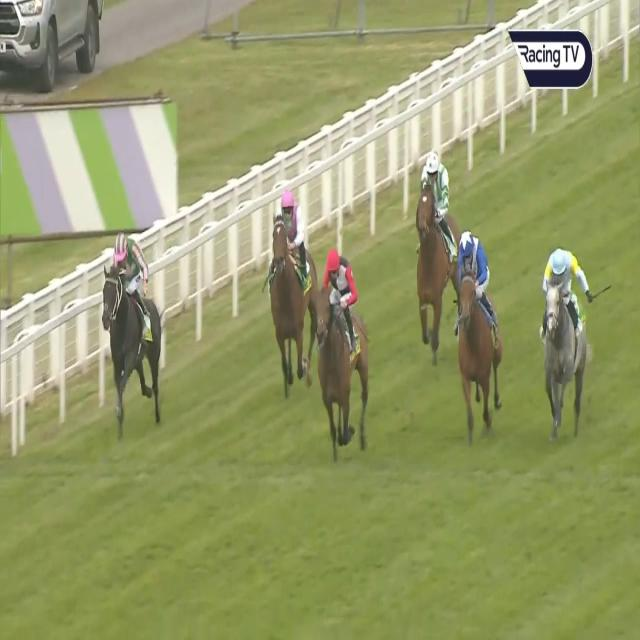horses-racing: (536, 244, 606, 433), (101, 230, 165, 424), (262, 191, 321, 360), (410, 148, 460, 336), (316, 252, 362, 450), (452, 224, 490, 437)
